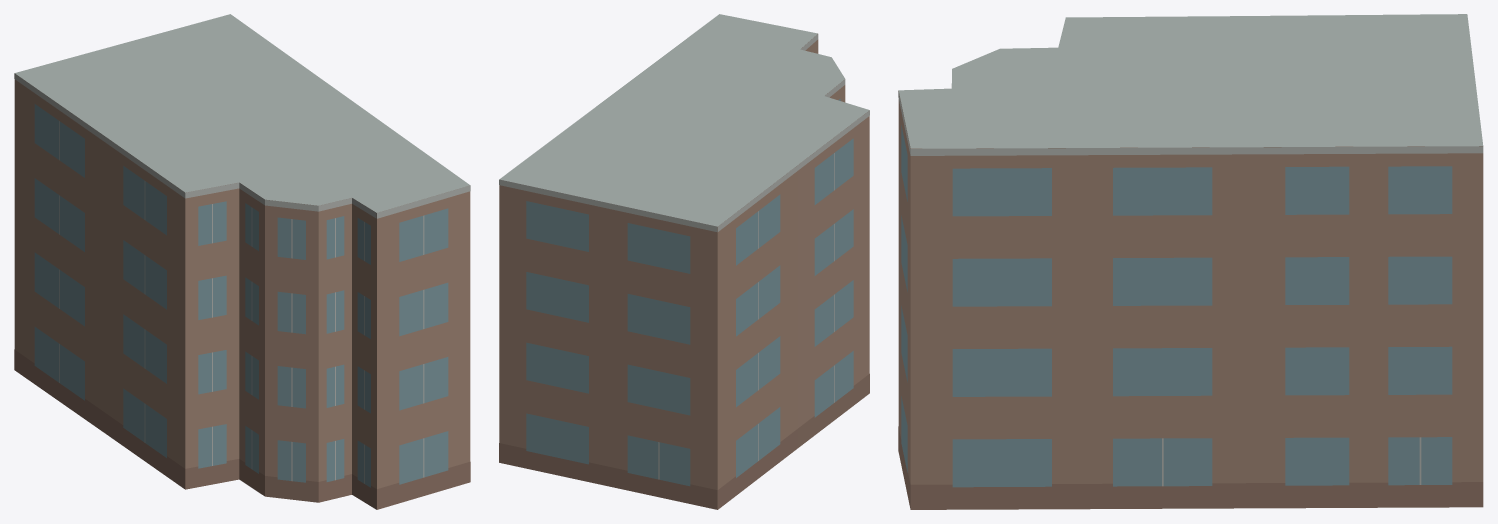
Rendered from survey-upis-32593080.glb.
The picture shows the model from 3 angles, left to right: view 1: azimuth 30°, elevation 25°; view 2: azimuth 150°, elevation 25°; view 3: azimuth 270°, elevation 25°; orthographic projection. The views are drawn at different scales.
Parts seen in each view (by area): view 1: survey-upis-32593080.tmp; view 2: survey-upis-32593080.tmp; view 3: survey-upis-32593080.tmp.
Boxes of the visible parts, box(x1,y1,x2,y2) form: survey-upis-32593080.tmp: box(14, 14, 470, 509); survey-upis-32593080.tmp: box(499, 14, 869, 509); survey-upis-32593080.tmp: box(898, 14, 1483, 509).
Size of the model in its own units: 9.77 by 12.2 by 17.91.
